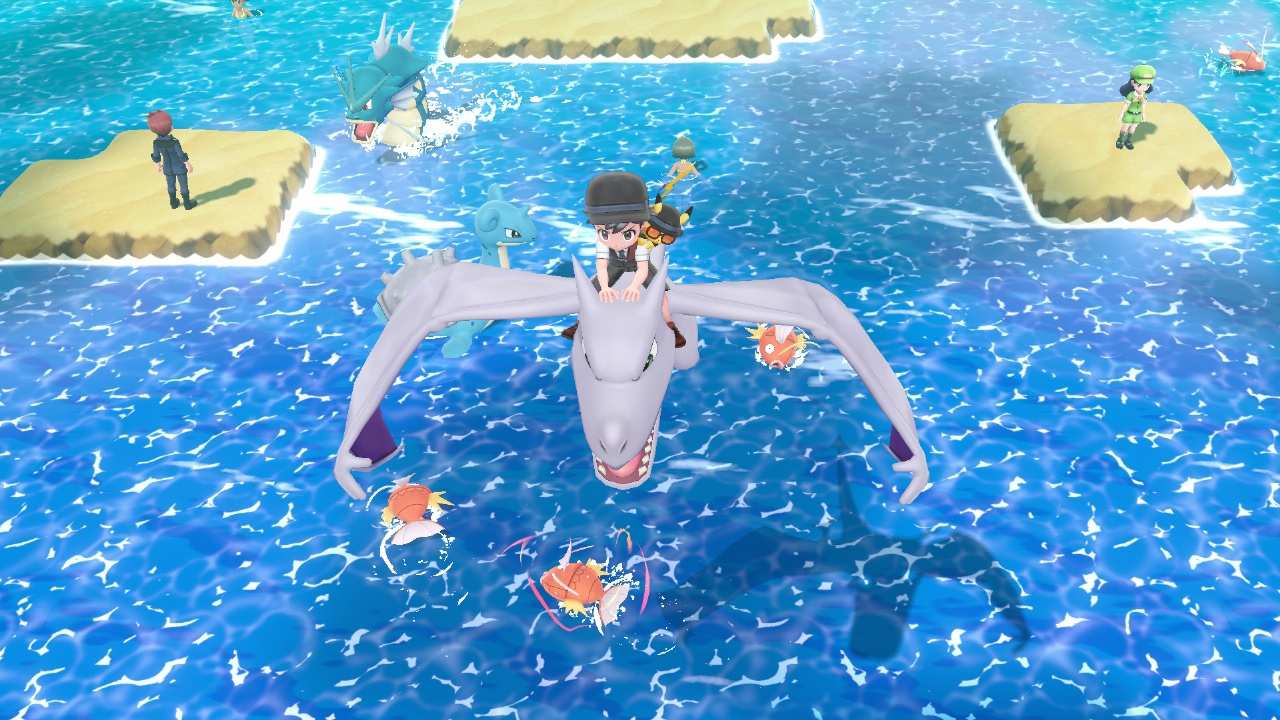Red: (539, 557, 633, 632), (379, 476, 453, 548), (746, 322, 810, 372), (1221, 41, 1266, 75)
